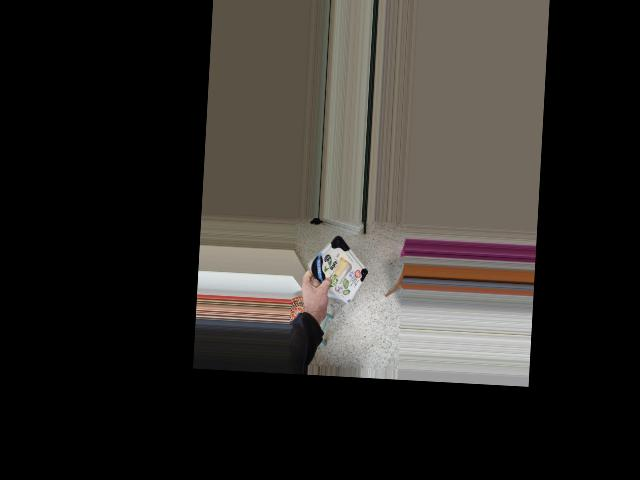cheese: (293, 242, 372, 294)
